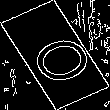O_NE: (15, 24, 95, 86)
